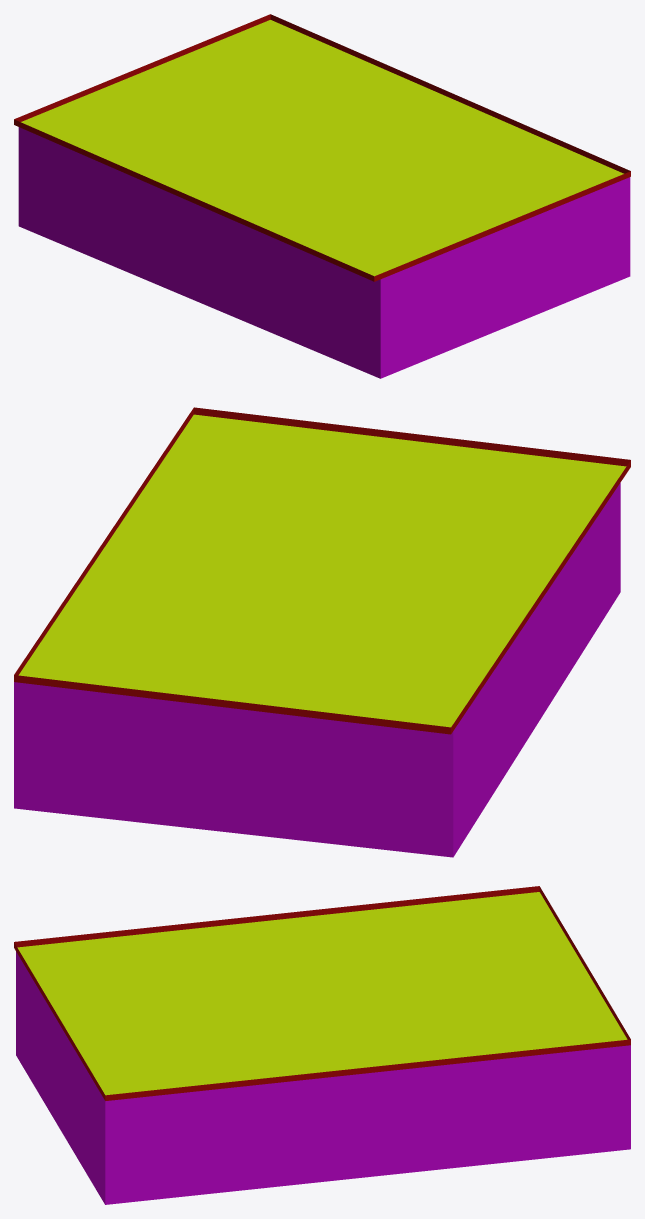
The model's file is sjs_34.glb.
3 views of the same model, one above another, from view 1: azimuth 30°, elevation 25°; view 2: azimuth 150°, elevation 25°; view 3: azimuth 270°, elevation 25° (orthographic). The views are drawn at different scales.
Parts seen in each view (by area): view 1: sjs_34; view 2: sjs_34; view 3: sjs_34.
Boxes of the visible parts, box(x1,y1,x2,y2) form: sjs_34: box(14, 14, 630, 378); sjs_34: box(14, 407, 630, 857); sjs_34: box(14, 886, 630, 1204).
Size of the model in its own units: 26.8 by 6.57 by 33.39.
